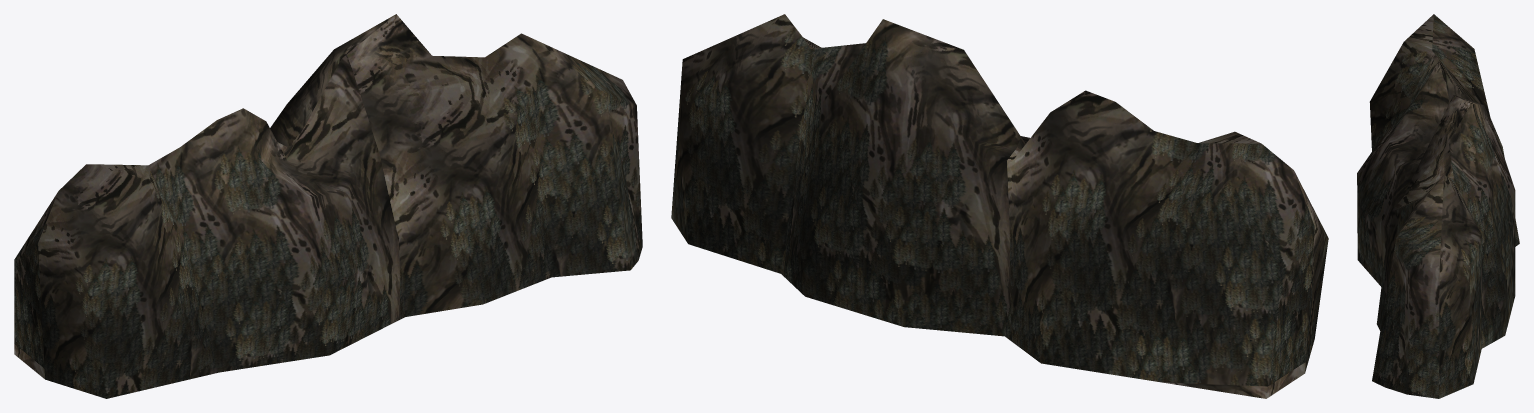
Rendered from PRP_HillBackground01.FBX.
The picture shows the model from 3 angles, left to right: view 1: azimuth 30°, elevation 25°; view 2: azimuth 150°, elevation 25°; view 3: azimuth 270°, elevation 25°; orthographic projection. The views are drawn at different scales.
Parts seen in each view (by area): view 1: PRP_HillBackground01; view 2: PRP_HillBackground01; view 3: PRP_HillBackground01.
Boxes of the visible parts, x1=… form: PRP_HillBackground01: x1=14, y1=14, x2=642, y2=398; PRP_HillBackground01: x1=671, y1=14, x2=1328, y2=398; PRP_HillBackground01: x1=1357, y1=14, x2=1519, y2=398.
Bounding box in the file's own units: 5578 × 2291 × 1604.
Materials: 1 (1 with a texture image).
